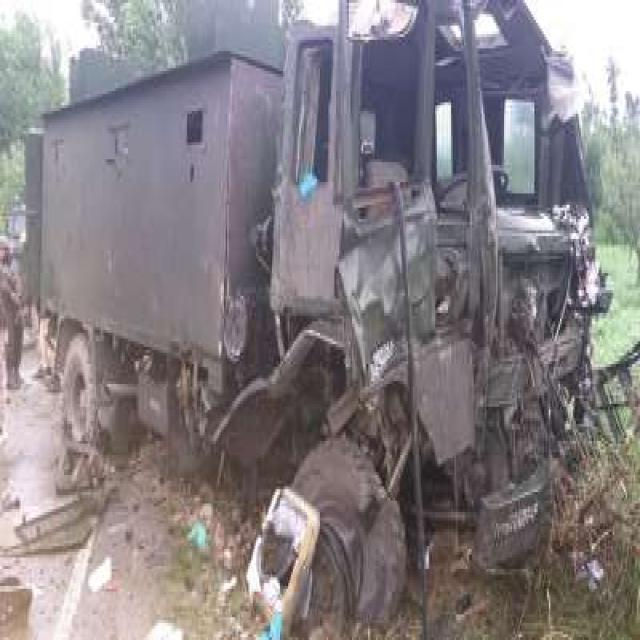accident: (26, 0, 609, 634)
